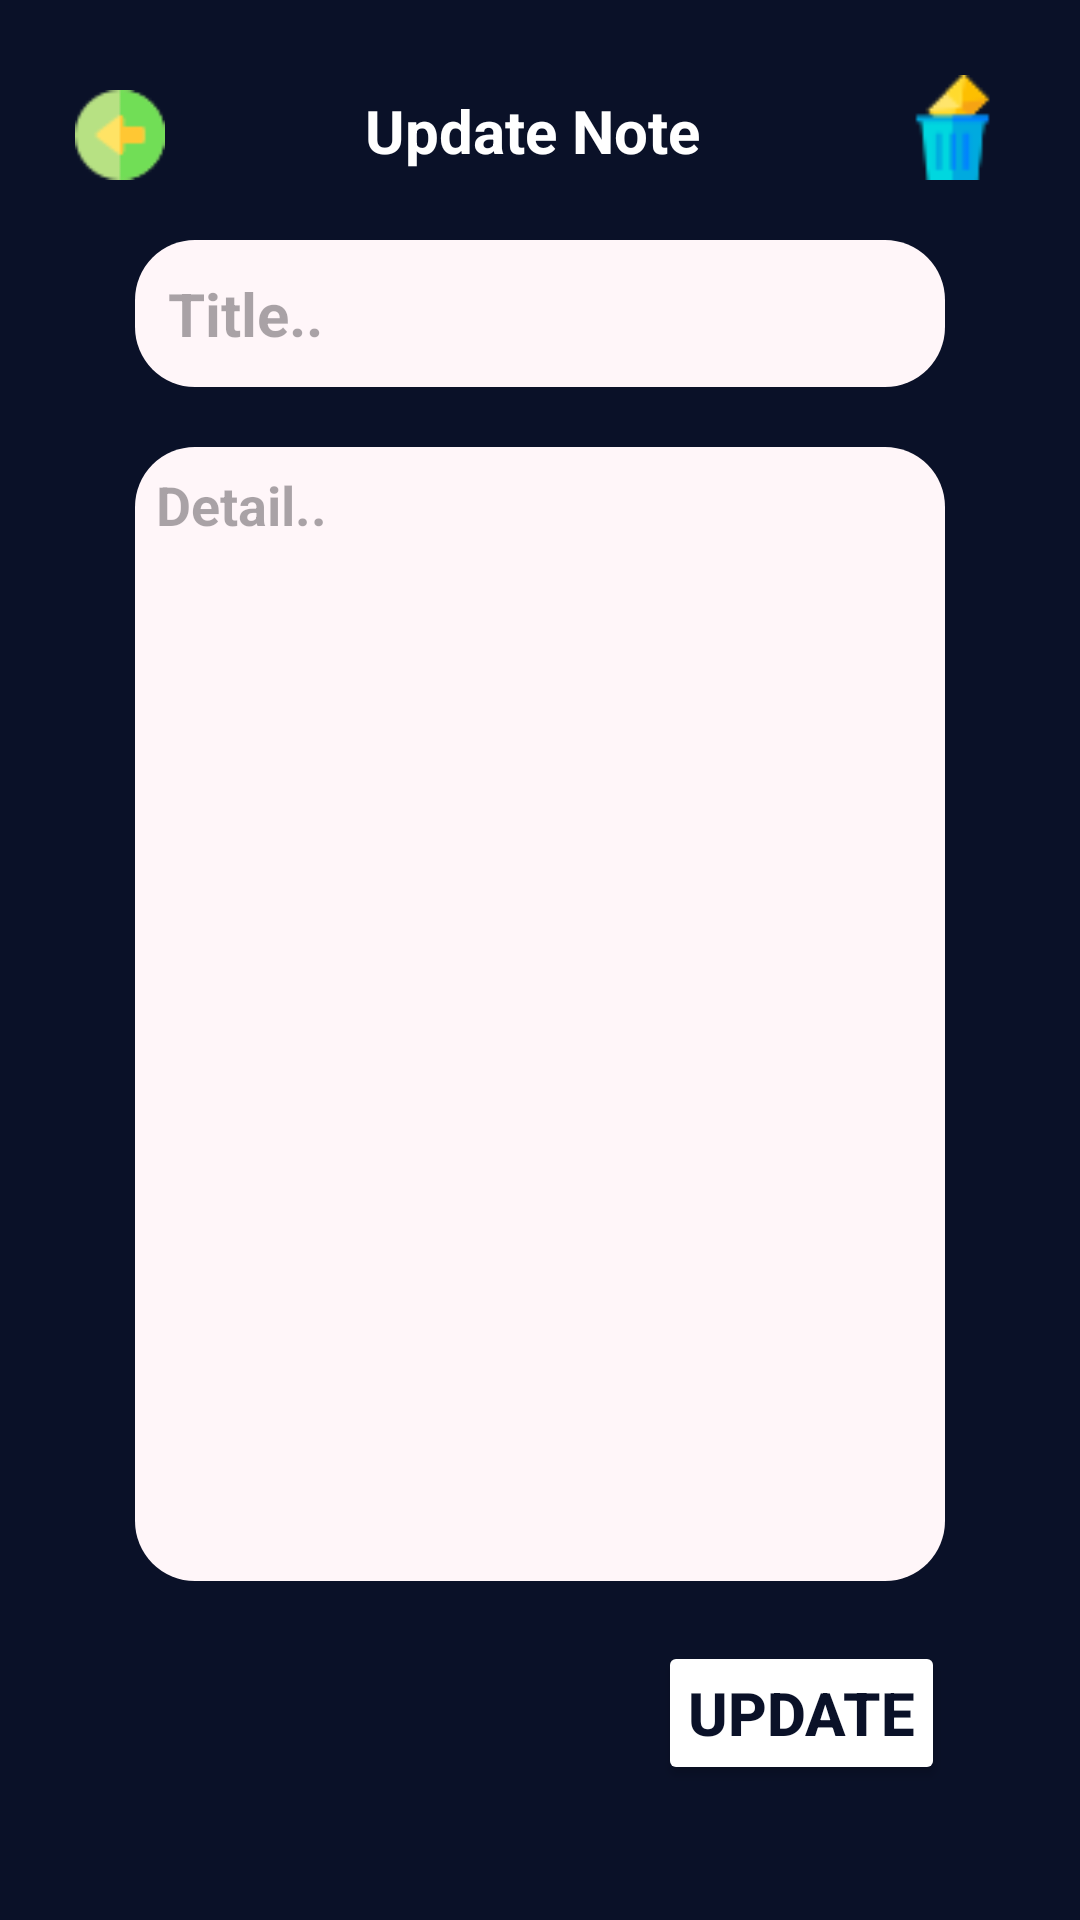

Locate icon controls on the screen. Image size 1080×1920, boxes as [x1,y1,x2,y2].
back: [75,90,165,180]
delete: [915,75,990,180]
